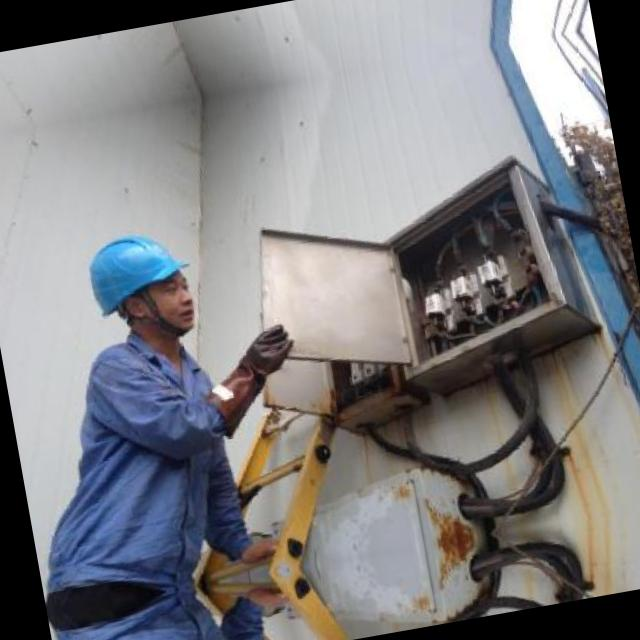helmet: (68, 210, 205, 360)
